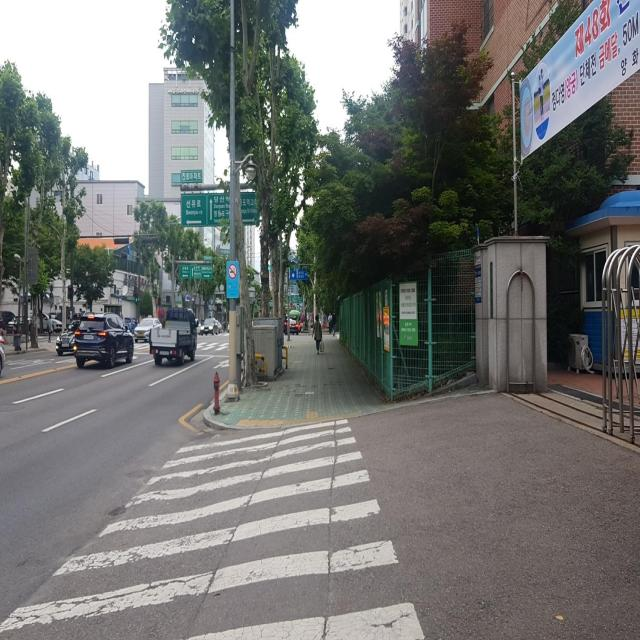횡단보도: (0, 421, 428, 639)
